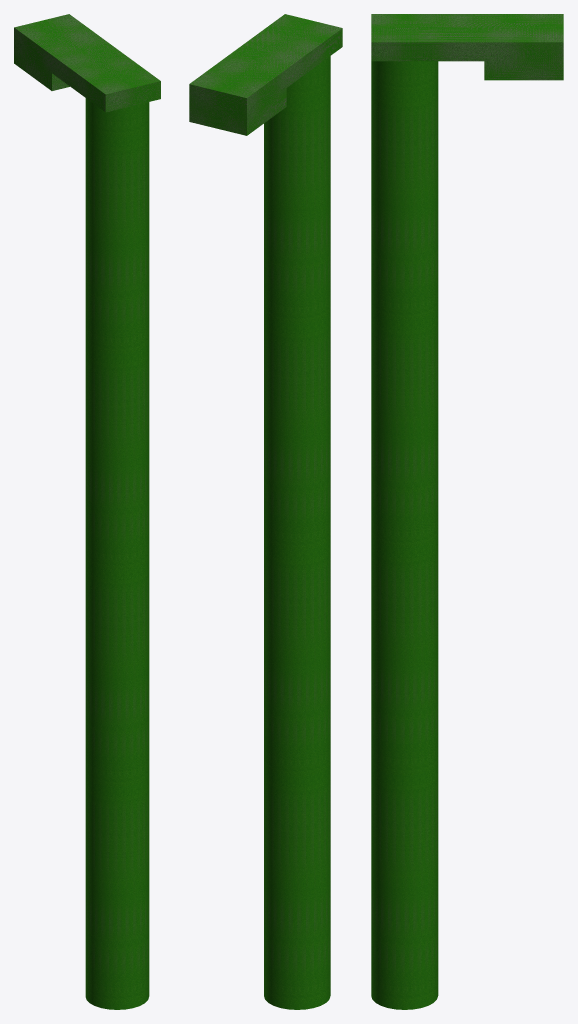
Rendered from lampadaire_dae.dae.
3 renders of one model, left to right at view 1: azimuth 30°, elevation 25°; view 2: azimuth 150°, elevation 25°; view 3: azimuth 270°, elevation 25°, orthographic. The views are drawn at different scales.
Parts seen in each view (by area): view 1: SketchUp (×2); view 2: SketchUp (×2); view 3: SketchUp (×2).
Boxes of the visible parts, x1,y1,x2,y2 form: SketchUp (×2): (14,14,160,1009); SketchUp (×2): (189,14,342,1009); SketchUp (×2): (371,14,563,1009).
Size of the model in its own units: 6.3 by 18.11 by 100.
3 materials, 1 textured.
